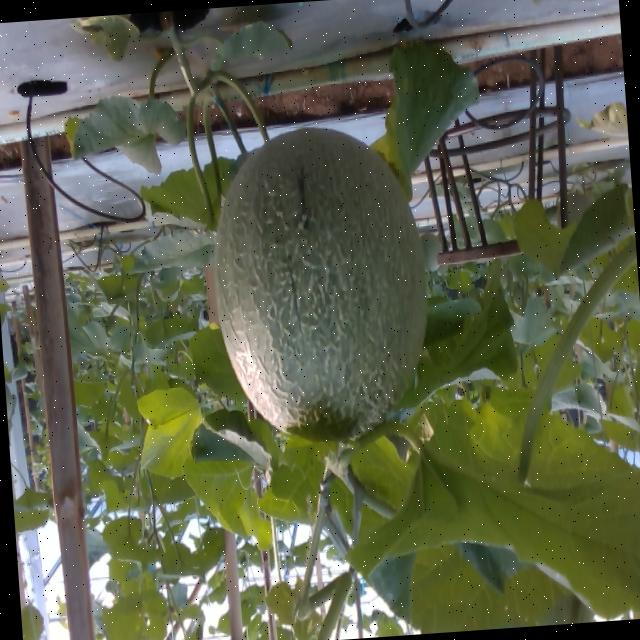melon: (213, 127, 424, 439)
